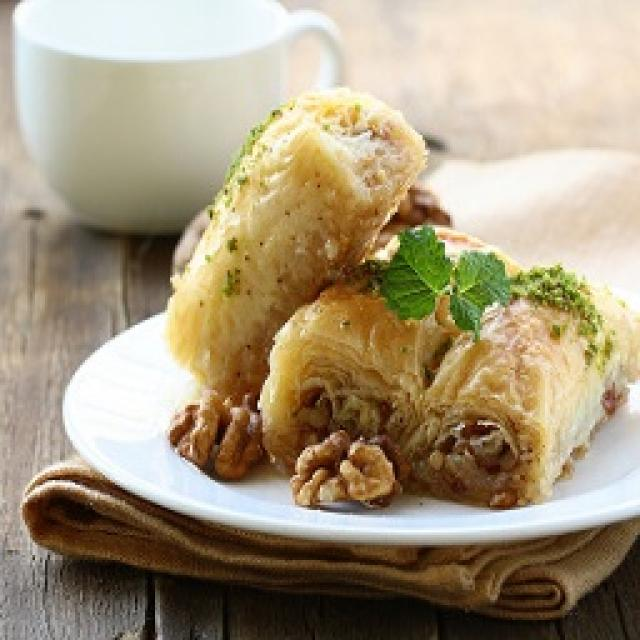Baklawa: (162, 88, 640, 512)
